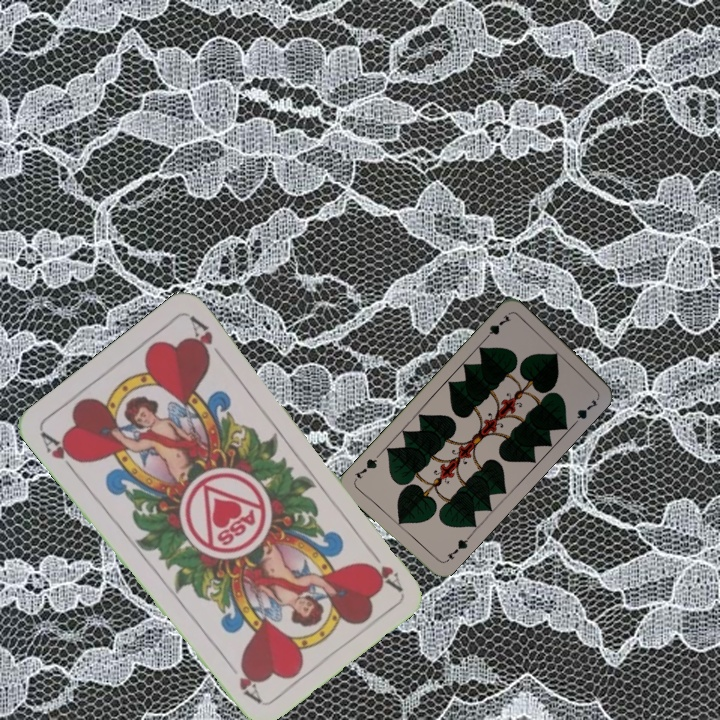G7: (479, 311, 514, 344), (441, 532, 473, 565)
HA: (36, 427, 85, 478), (362, 542, 405, 593)
